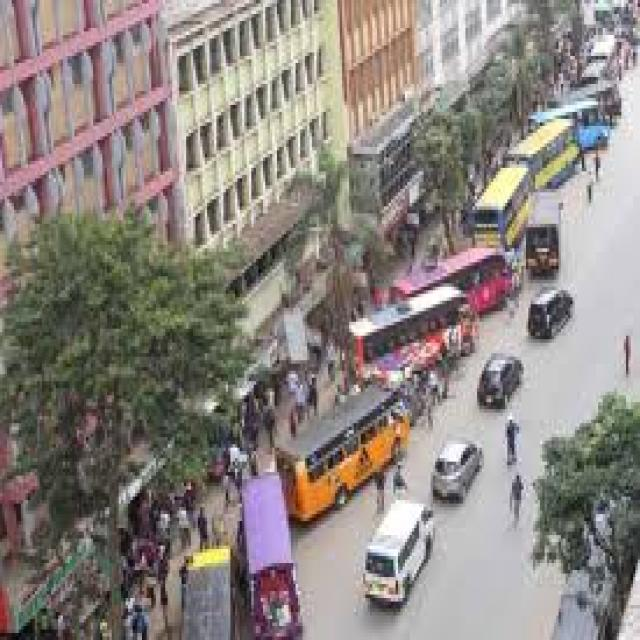bus: (347, 289, 505, 371), (307, 388, 439, 483), (241, 476, 309, 640), (174, 544, 240, 640), (391, 246, 523, 284), (480, 154, 523, 237), (541, 117, 591, 177), (533, 183, 565, 269)
matatu: (370, 494, 470, 613)
